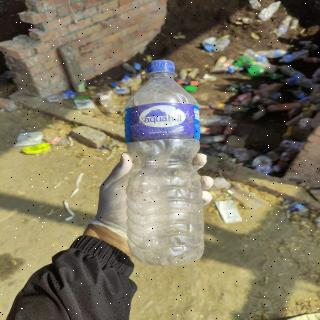Plastic-bottle: (122, 57, 212, 269)
